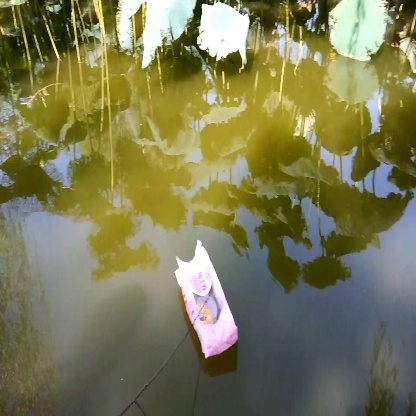bottle: (170, 238, 247, 361)
